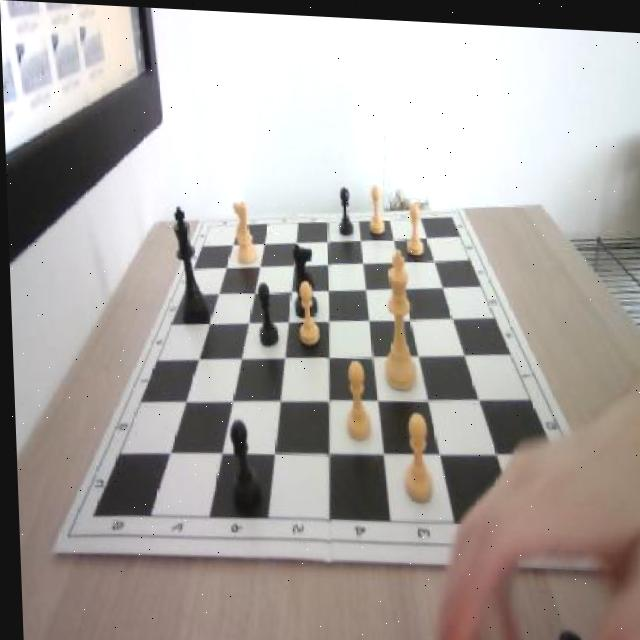black-bishop: (170, 204, 205, 319)
black-king: (288, 238, 313, 317)
black-knight: (224, 417, 256, 507), (253, 278, 276, 346), (336, 182, 353, 233)
white-bishop: (378, 241, 415, 387)
white-king: (230, 197, 252, 263)
white-knight: (398, 408, 433, 500), (340, 352, 368, 438), (292, 280, 318, 350), (365, 182, 385, 232), (403, 199, 422, 250)
